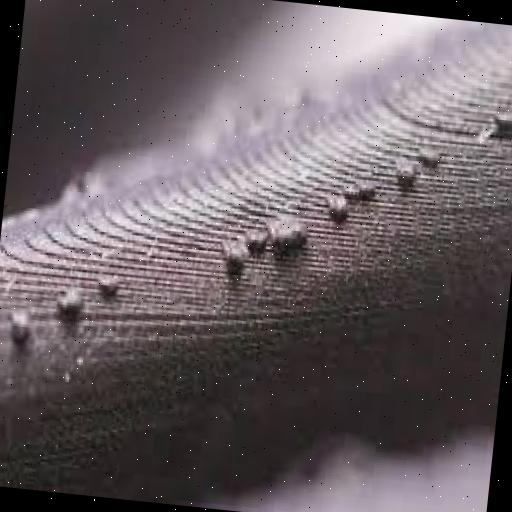blobs: (204, 136, 454, 291), (0, 255, 136, 359), (472, 100, 512, 159)
